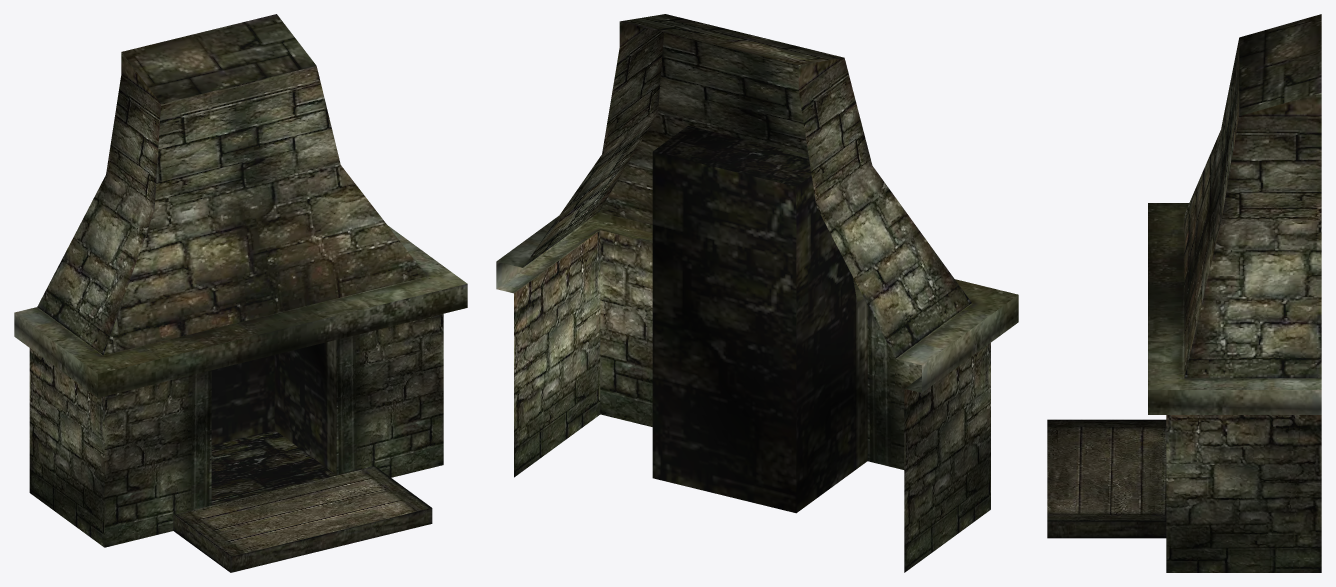
The model's file is NW_CITY_FIREPLACE_NORMAL_011.glb.
The picture shows the model from 3 angles, left to right: view 1: azimuth 30°, elevation 25°; view 2: azimuth 150°, elevation 25°; view 3: azimuth 270°, elevation 25°; orthographic projection. The views are drawn at different scales.
Parts seen in each view (by area): view 1: Mesh; view 2: Mesh; view 3: Mesh.
Boxes of the visible parts, x1,y1,x2,y2 form: Mesh: (14,14,467,572); Mesh: (496,14,1018,572); Mesh: (1047,14,1321,572).
Size of the model in its own units: 2.42 by 2.62 by 1.5.
Materials: 1 (1 with a texture image).
